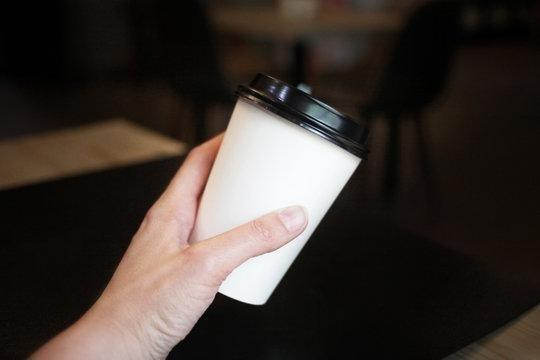cup-disposable: (181, 70, 372, 309)
